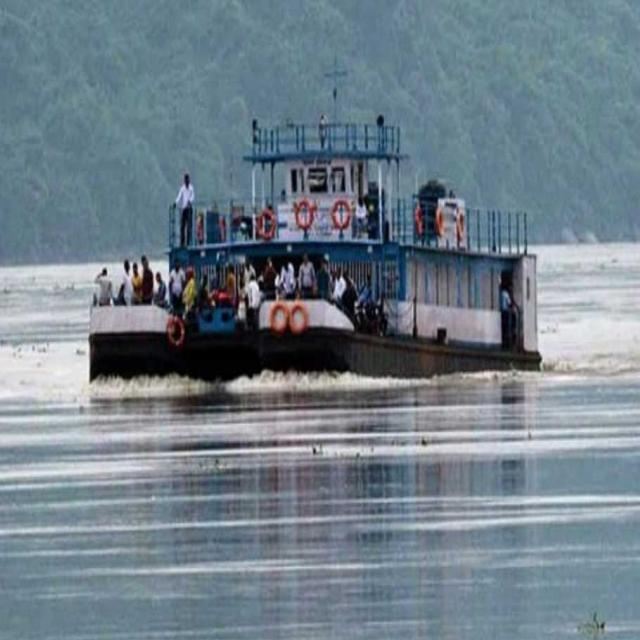houseboat: (87, 93, 559, 397)
